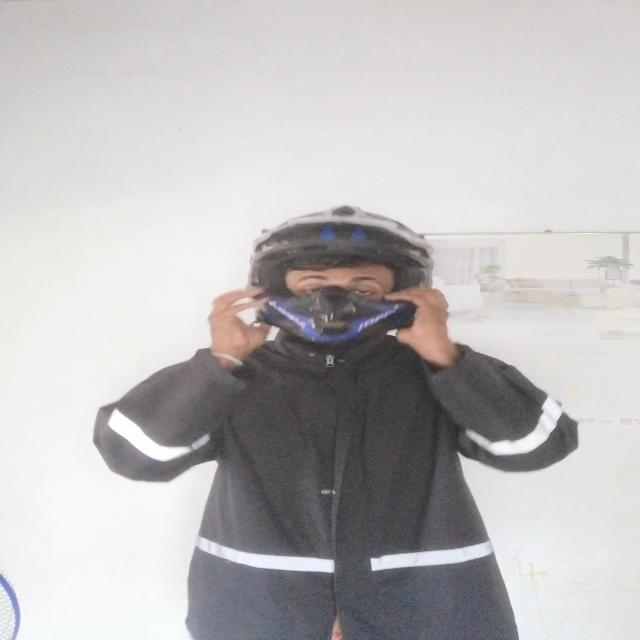Helmet_Wearer: (188, 202, 459, 362)
Jacket_Wearer: (98, 311, 572, 640)
